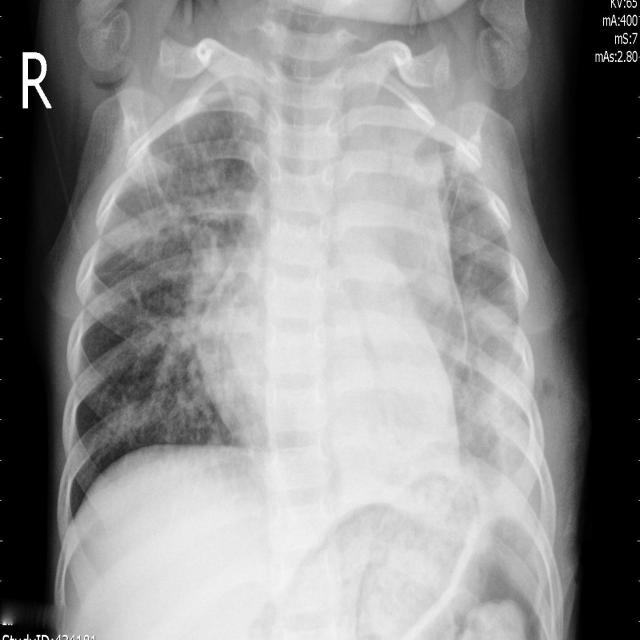low-pneumonia: (461, 298, 557, 464), (136, 302, 215, 438), (171, 170, 248, 301)
